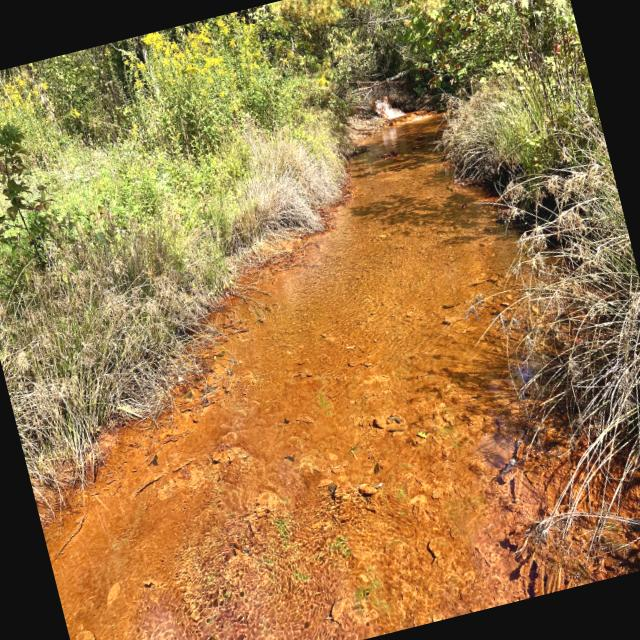yellow_boy: (43, 116, 580, 640)
